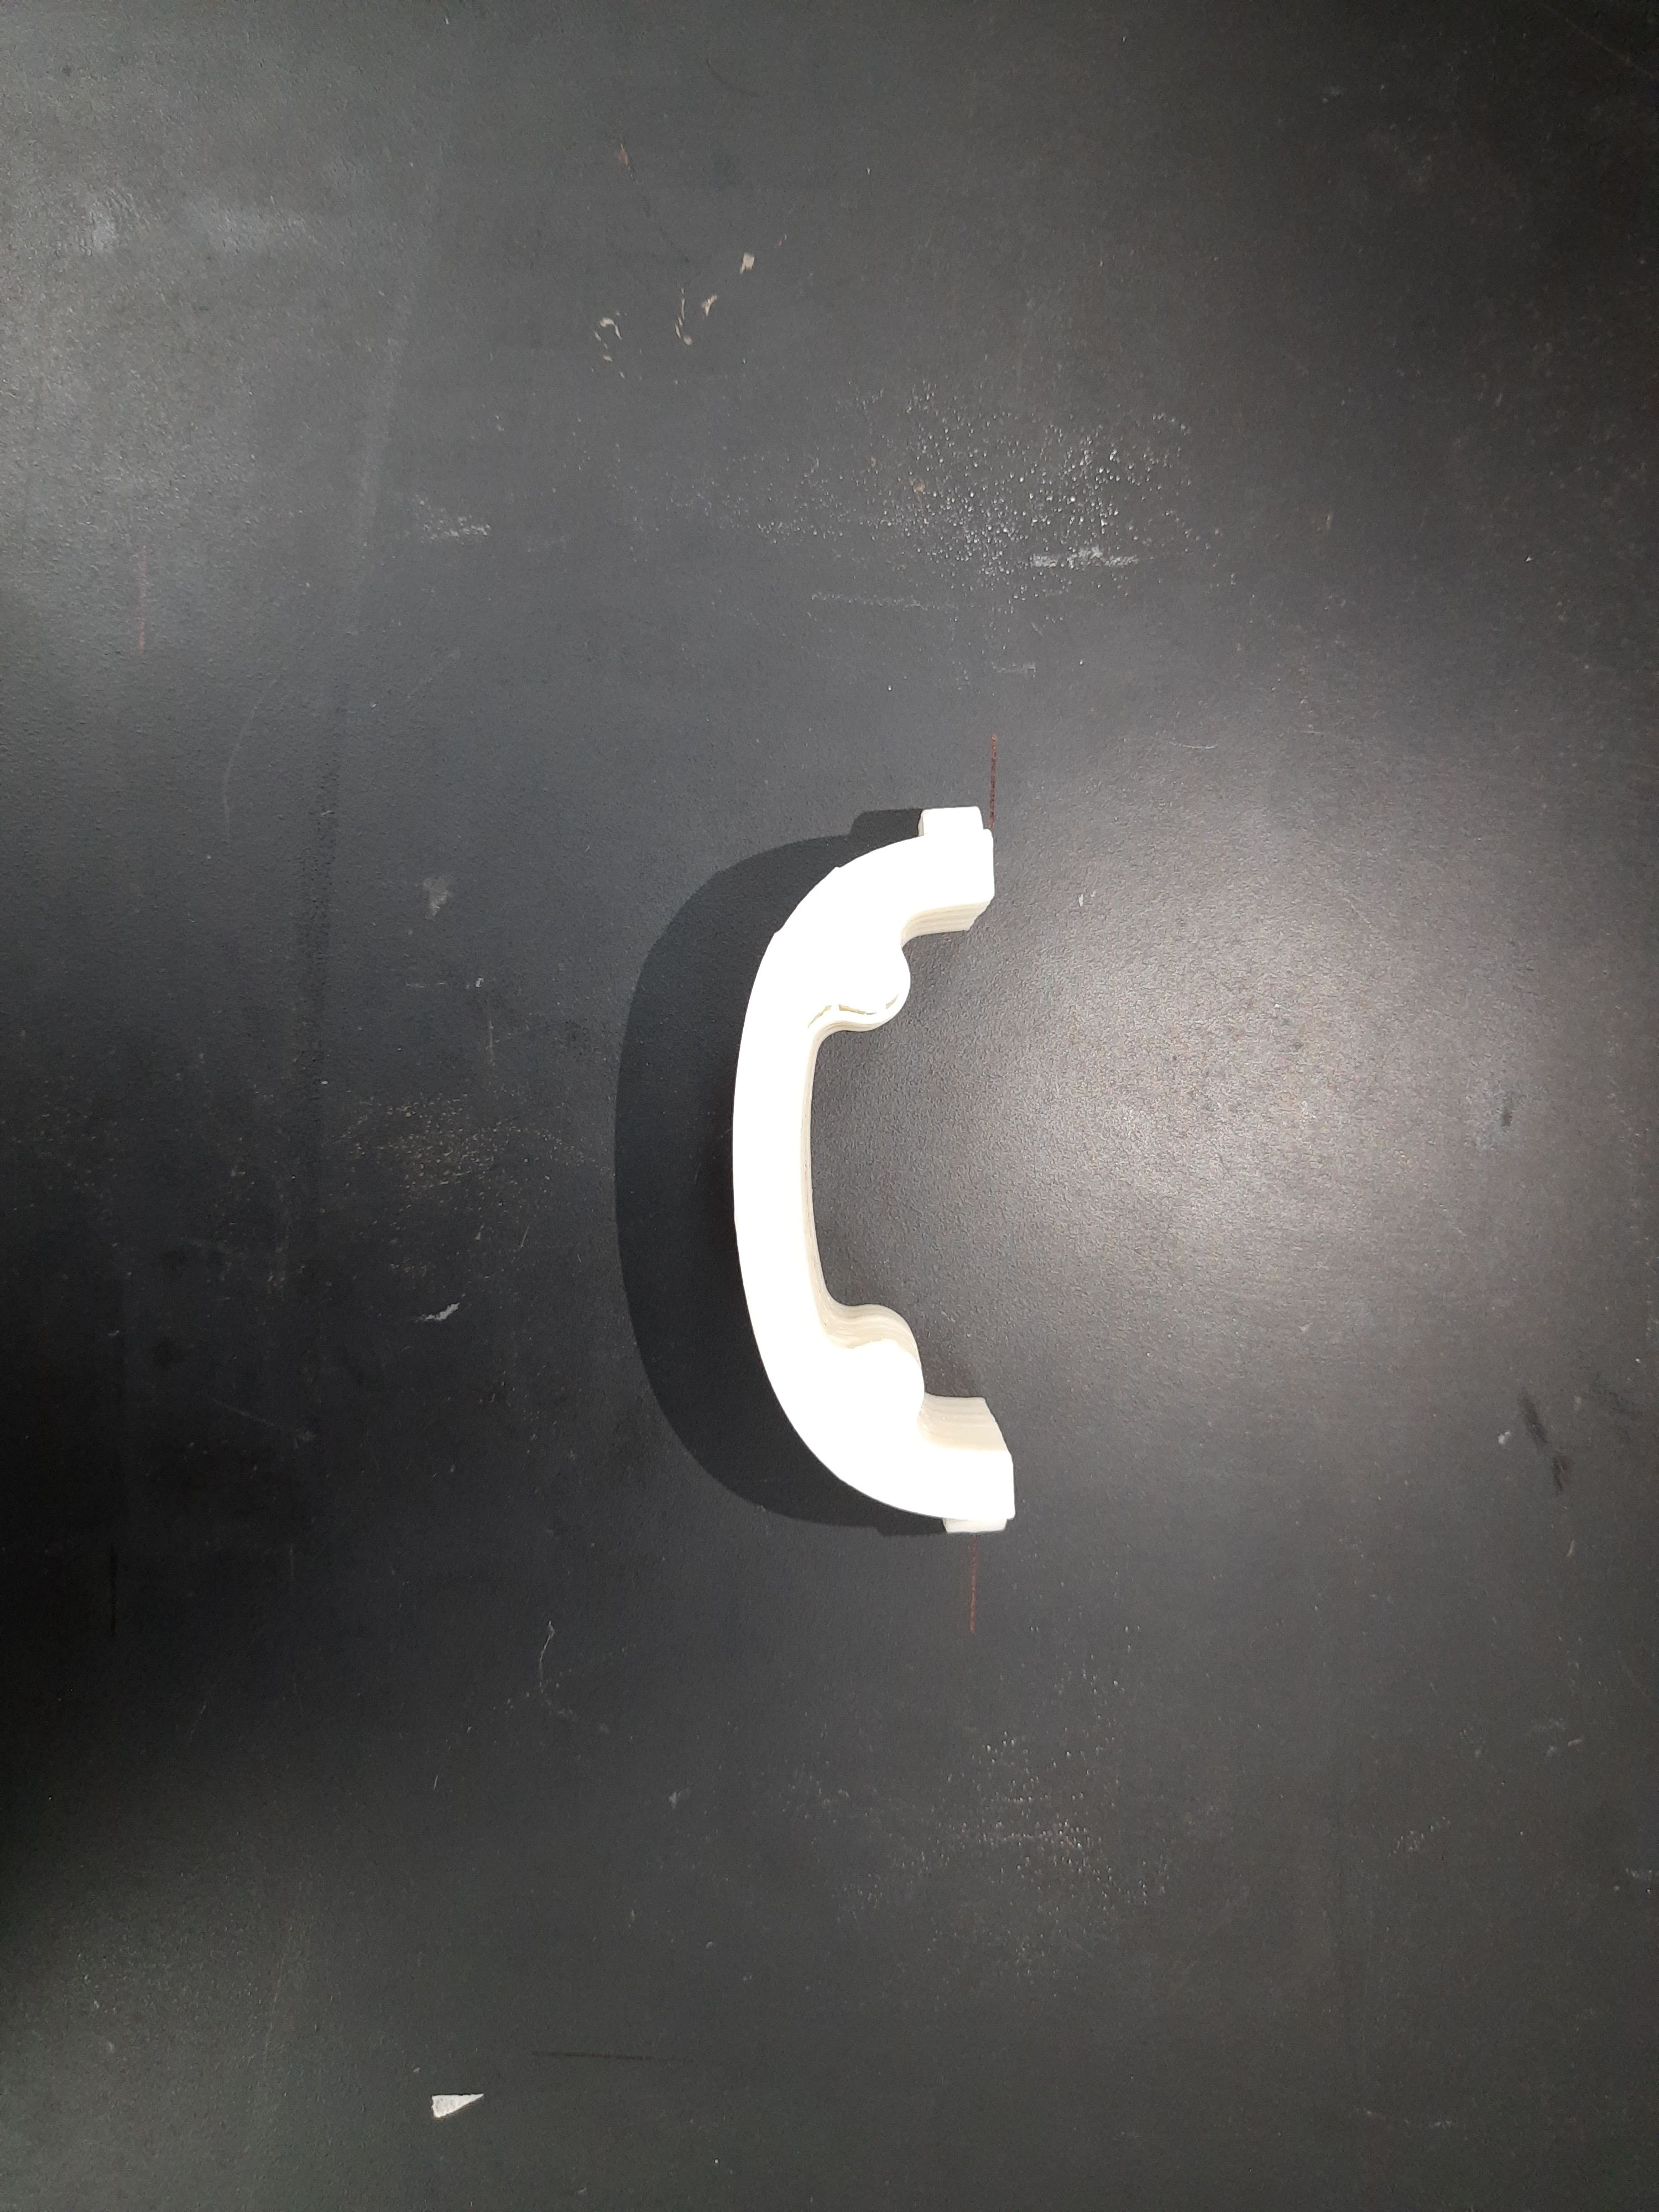ARC: (728, 794, 1012, 1534)
